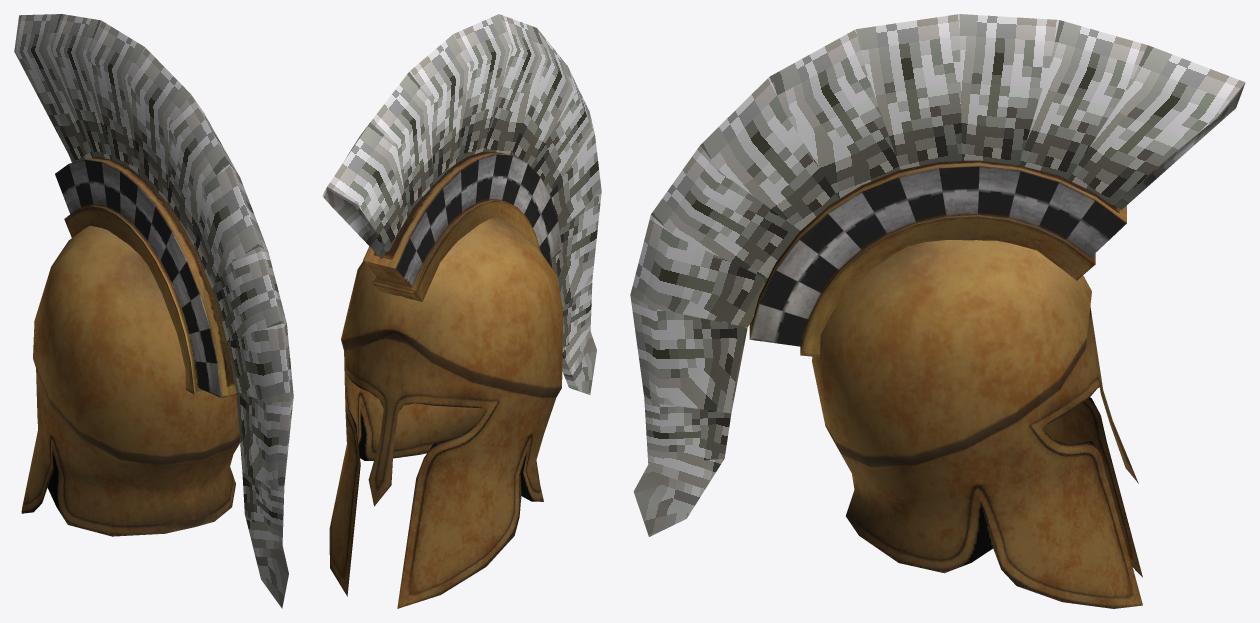
The model's file is helm_hele_corinthian_e4.glb.
3 views of the same model, side by side, from view 1: azimuth 30°, elevation 25°; view 2: azimuth 150°, elevation 25°; view 3: azimuth 270°, elevation 25° (orthographic). The views are drawn at different scales.
Parts seen in each view (by area): view 1: helm_hele_corinthian_e4_part0, helm_hele_corinthian_e4_part2, helm_hele_corinthian_e4_part1; view 2: helm_hele_corinthian_e4_part0, helm_hele_corinthian_e4_part2, helm_hele_corinthian_e4_part1; view 3: helm_hele_corinthian_e4_part2, helm_hele_corinthian_e4_part0, helm_hele_corinthian_e4_part1.
Boxes of the visible parts, bbox=[...] form: helm_hele_corinthian_e4_part0: bbox=[21, 225, 239, 536]; helm_hele_corinthian_e4_part2: bbox=[14, 14, 293, 608]; helm_hele_corinthian_e4_part1: bbox=[55, 156, 236, 398]; helm_hele_corinthian_e4_part0: bbox=[329, 217, 563, 608]; helm_hele_corinthian_e4_part2: bbox=[322, 14, 601, 394]; helm_hele_corinthian_e4_part1: bbox=[363, 151, 562, 301]; helm_hele_corinthian_e4_part2: bbox=[630, 14, 1245, 536]; helm_hele_corinthian_e4_part0: bbox=[812, 240, 1142, 608]; helm_hele_corinthian_e4_part1: bbox=[749, 160, 1126, 357].
Size of the model in its own units: 0.4727 by 1.21 by 1.17.
3 materials, 3 textured.
